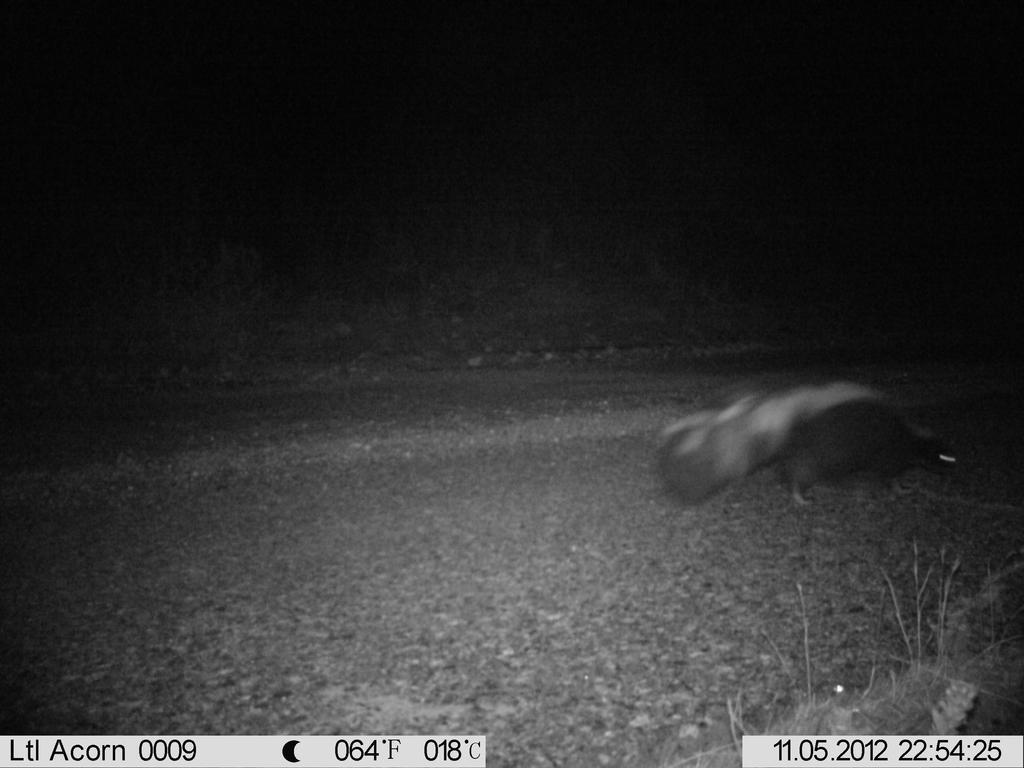skunk: (651, 374, 971, 514)
